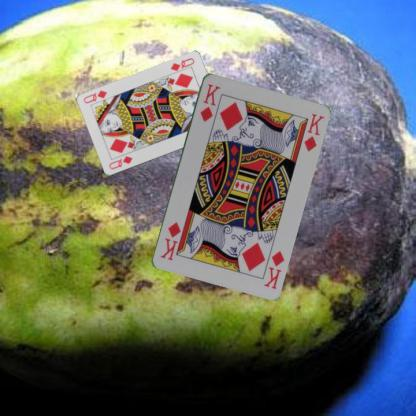Kd: (261, 248, 286, 290), (197, 81, 222, 122)
Qd: (168, 56, 195, 76), (106, 154, 134, 171)
